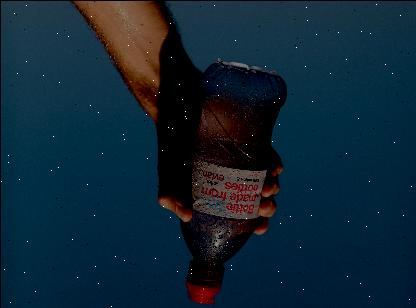Plastic Bottle: (176, 56, 288, 306)
